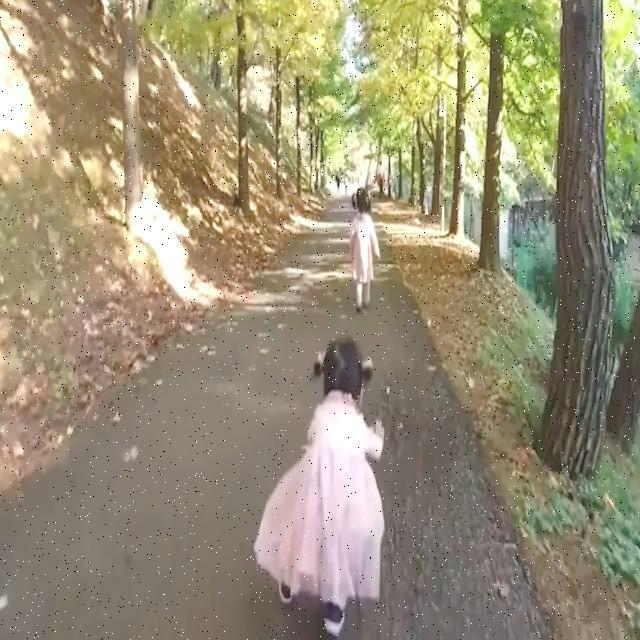child: (256, 337, 384, 639), (348, 184, 379, 312)
